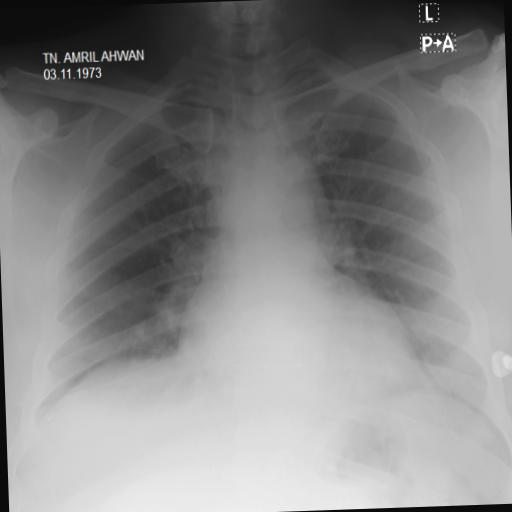normal: (0, 33, 506, 464)
